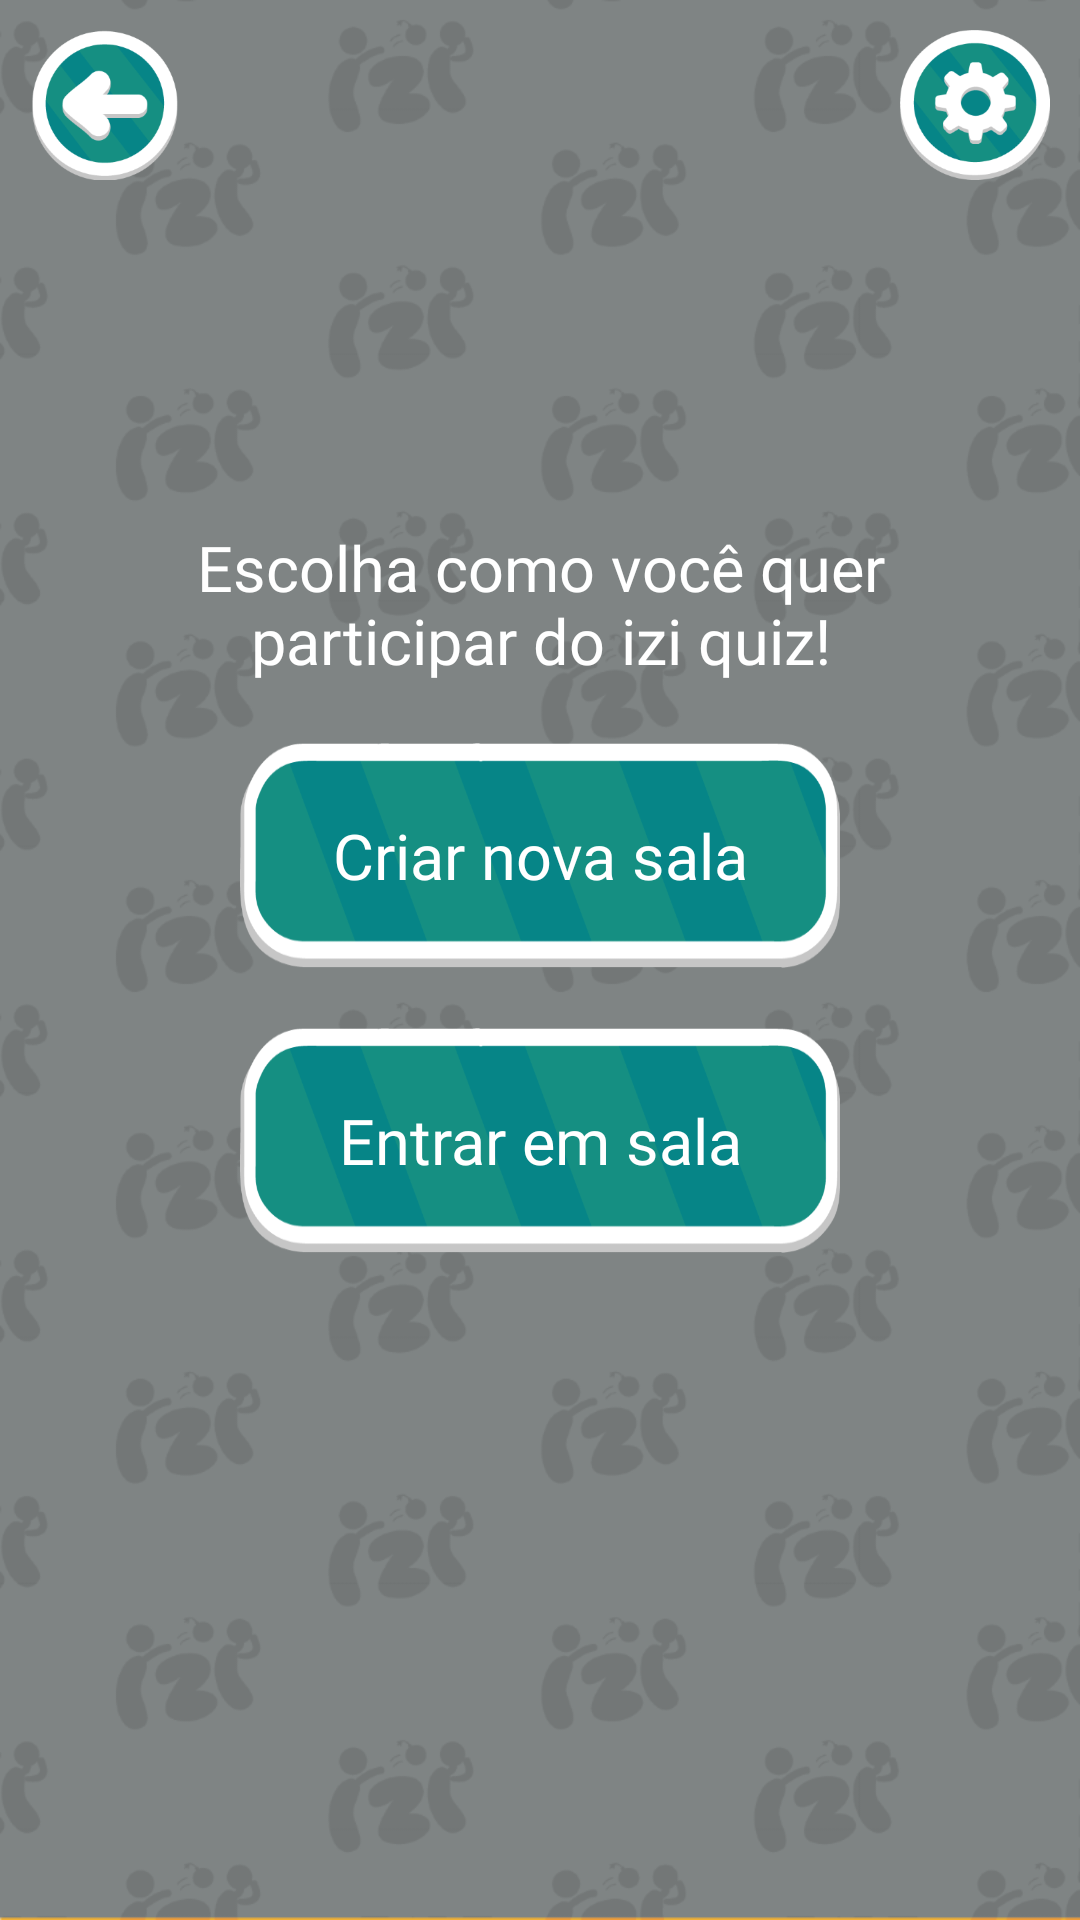

Screen size 1080px x 1920px. Icon name, then its box in pixels as {"x1": x1, "y1": y1, "x2": x2, "y2": y2}:
back: {"x1": 32, "y1": 31, "x2": 178, "y2": 180}
options: {"x1": 900, "y1": 30, "x2": 1050, "y2": 180}
